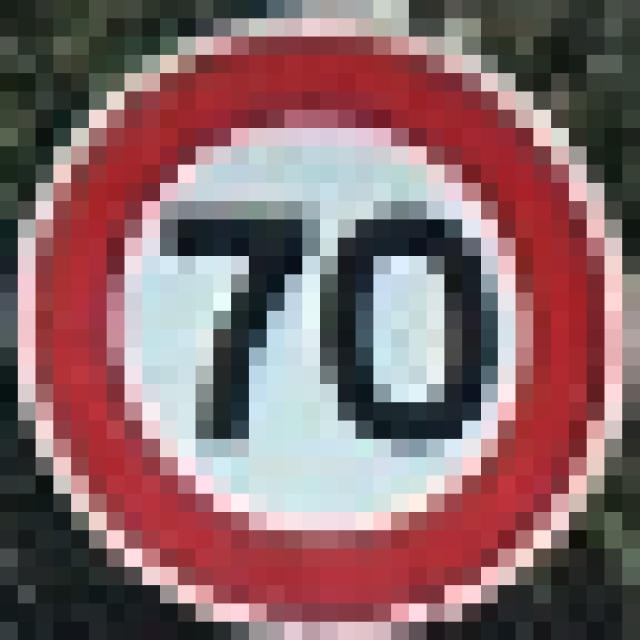speed_70: (0, 0, 622, 622)
